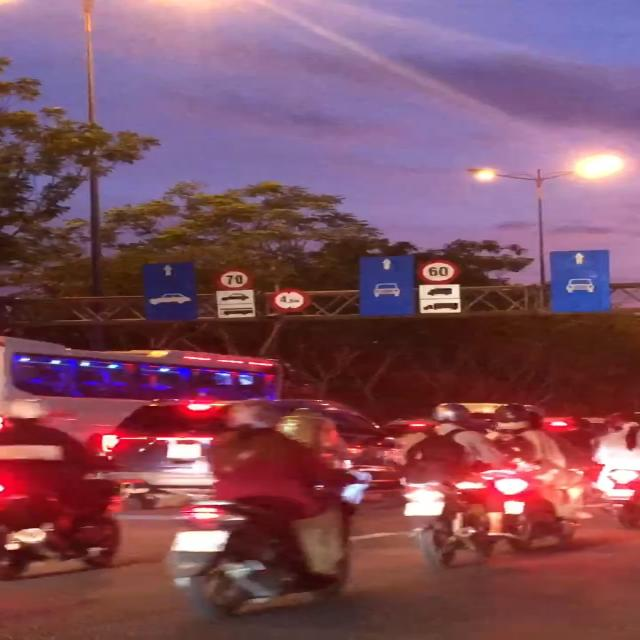Bien bao han che chieu cao: (268, 288, 313, 314)
Bien bao toc do toi da cho phep: (412, 255, 459, 283), (215, 266, 254, 291)
